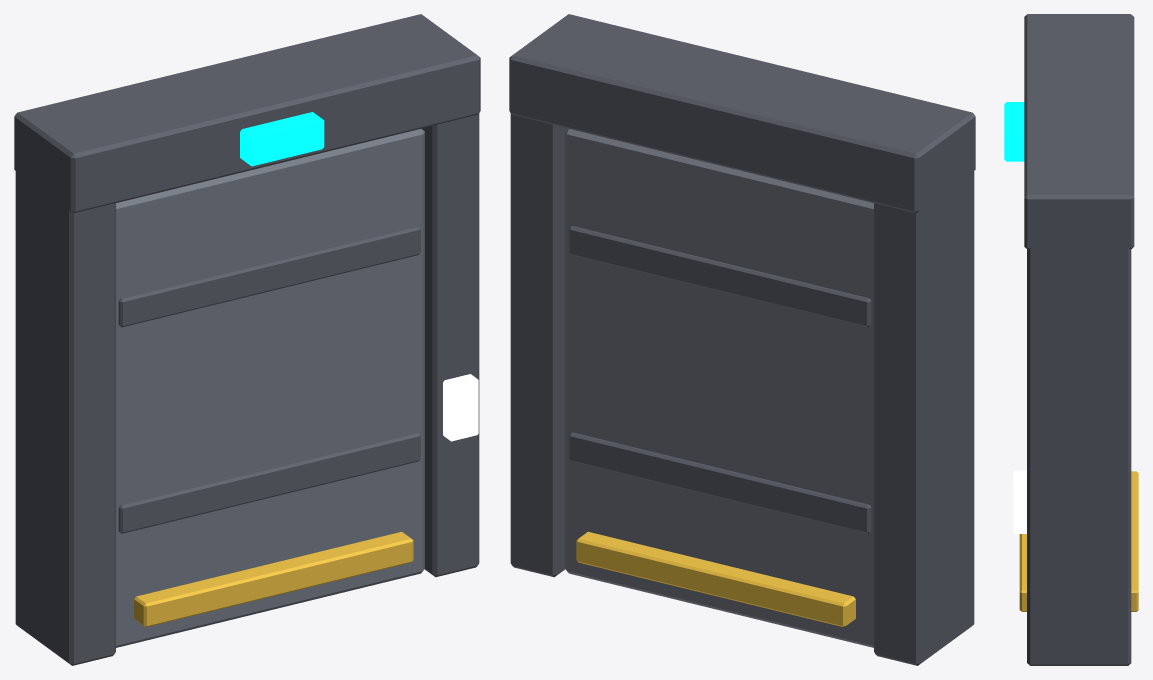
The model's file is prop_porta_chumbo_10t.glb.
3 renders of one model, left to right at view 1: azimuth 30°, elevation 25°; view 2: azimuth 150°, elevation 25°; view 3: azimuth 270°, elevation 25°, orthographic. The views are drawn at different scales.
Visible parts, largest first — view 1: Lead_Monolith, Frame_Header, Frame_Pillar_L, Frame_Pillar_R, Goliath_LiftBar_F, Lead_Reinforce1, Lead_Reinforce2, Phantom_SangriaFlange, Cipher_LogicPanel; view 2: Lead_Monolith, Frame_Header, Frame_Pillar_L, Frame_Pillar_R, Goliath_LiftBar_B, Lead_Reinforce1, Lead_Reinforce2; view 3: Frame_Pillar_R, Frame_Header, Phantom_SangriaFlange, Goliath_LiftBar_B, Cipher_LogicPanel, Goliath_LiftBar_F.
Boxes of the visible parts, x1,y1,x2,y2 form: Lead_Monolith: (116,128,424,647); Frame_Header: (14,14,480,212); Frame_Pillar_L: (15,134,115,665); Frame_Pillar_R: (422,113,479,577); Goliath_LiftBar_F: (134,531,413,627); Lead_Reinforce1: (118,432,420,533); Lead_Reinforce2: (118,226,420,327); Phantom_SangriaFlange: (240,112,324,166); Cipher_LogicPanel: (443,374,478,441); Lead_Monolith: (565,128,873,647); Frame_Header: (509,14,975,212); Frame_Pillar_L: (874,132,974,665); Frame_Pillar_R: (510,113,567,577); Goliath_LiftBar_B: (576,531,855,627); Lead_Reinforce1: (569,432,871,533); Lead_Reinforce2: (569,226,871,327); Frame_Pillar_R: (1027,212,1131,665); Frame_Header: (1024,14,1134,249); Phantom_SangriaFlange: (1004,102,1024,161); Goliath_LiftBar_B: (1131,471,1138,611); Cipher_LogicPanel: (1013,470,1026,533); Goliath_LiftBar_F: (1019,534,1026,611).
Size of the model in its own units: 3.95 by 4.72 by 1.22.
